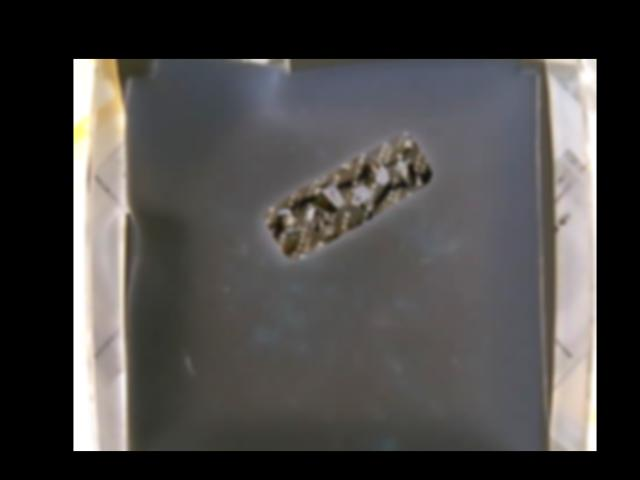Medicine: (263, 134, 431, 259)
